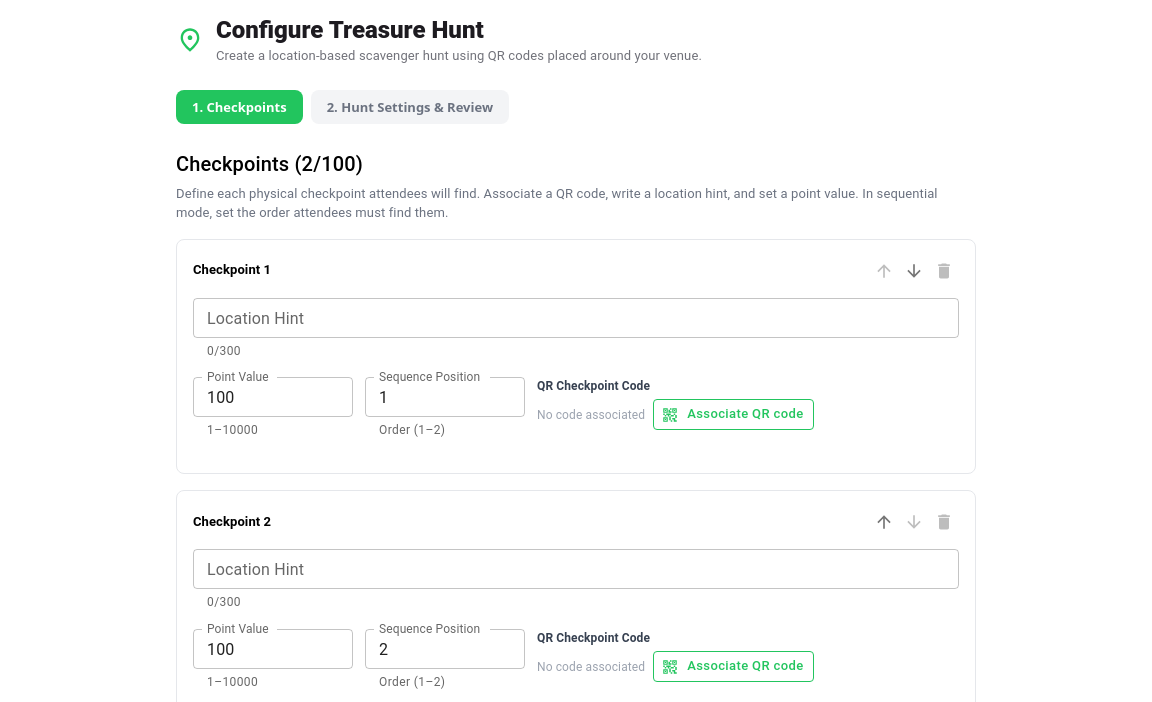
Test: TreasureHuntConfig › blocks save on invalid data and shows field errors
Click the text "2. Hunt Settings & Review". click: (410, 106)
box: [311,90,509,124]
(page scrolled)
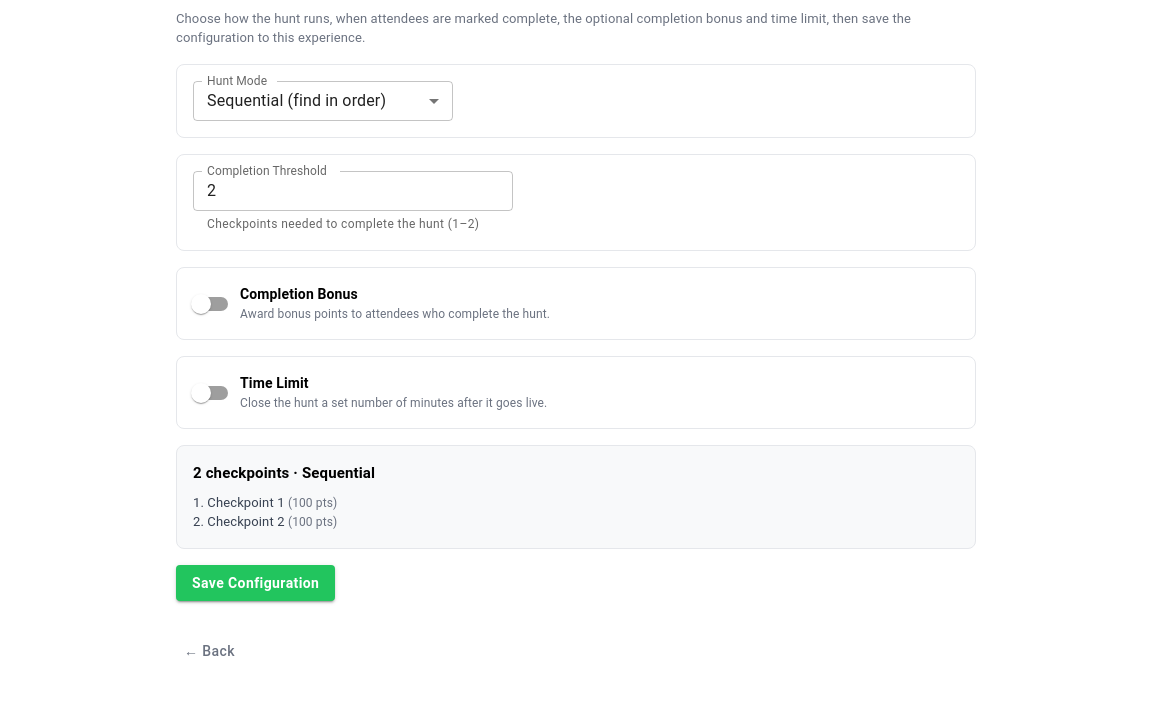
Expected: the button "Save Configuration" is shown
Click the button "Save Configuration". click: (256, 583)
box: [176,565,335,601]
(page scrolled)
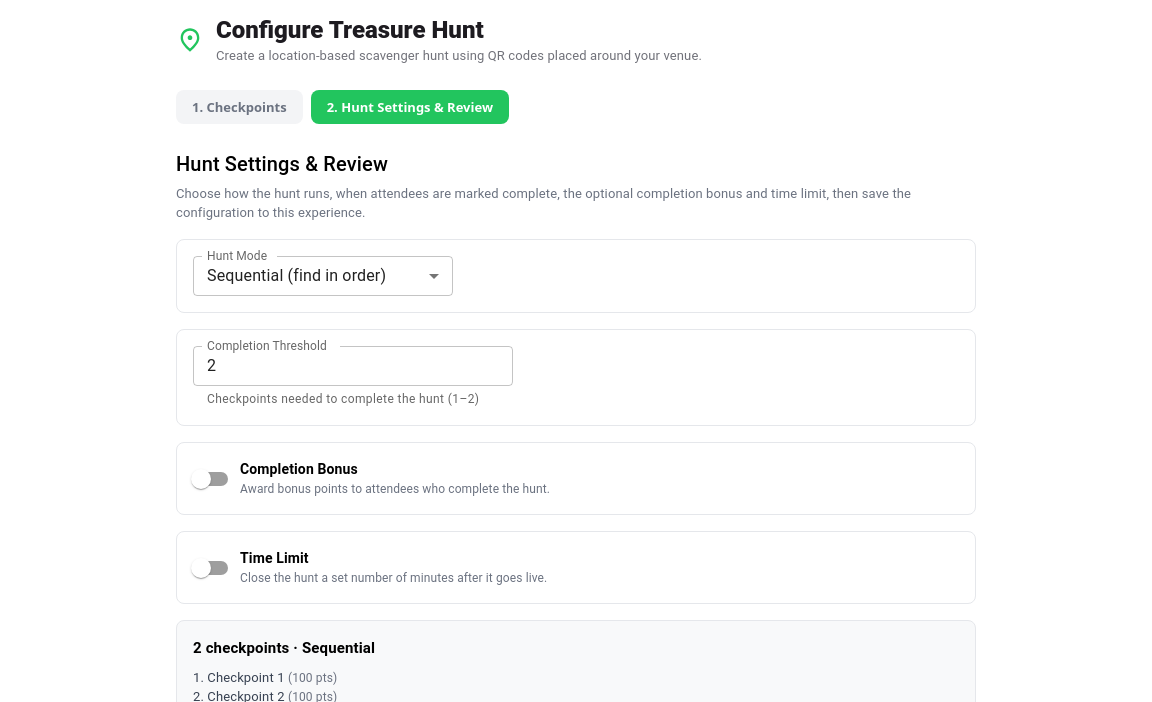
Click the text "1. Checkpoints". click: (239, 106)
box: [176,90,303,124]
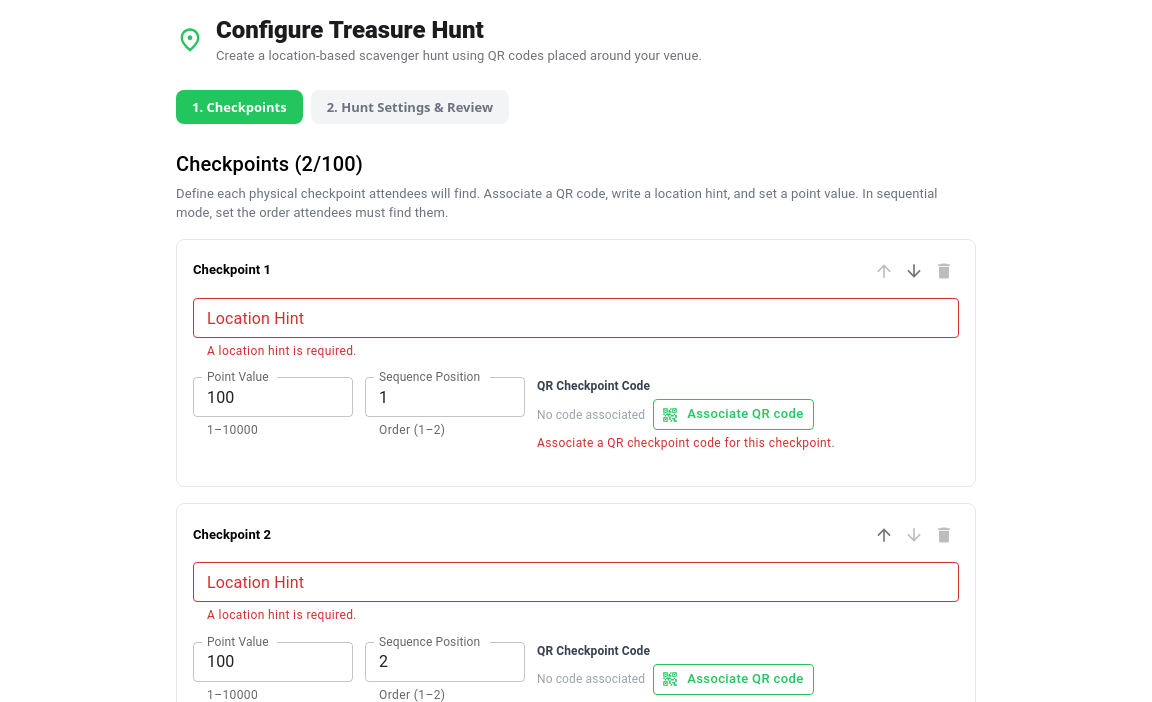
Expected: the 1st text "A location hint is required." is shown, [207,344,357,358]
Expected: the 1st text "Associate a QR checkpoint code for this checkpoint." is shown, [537,436,835,450]
